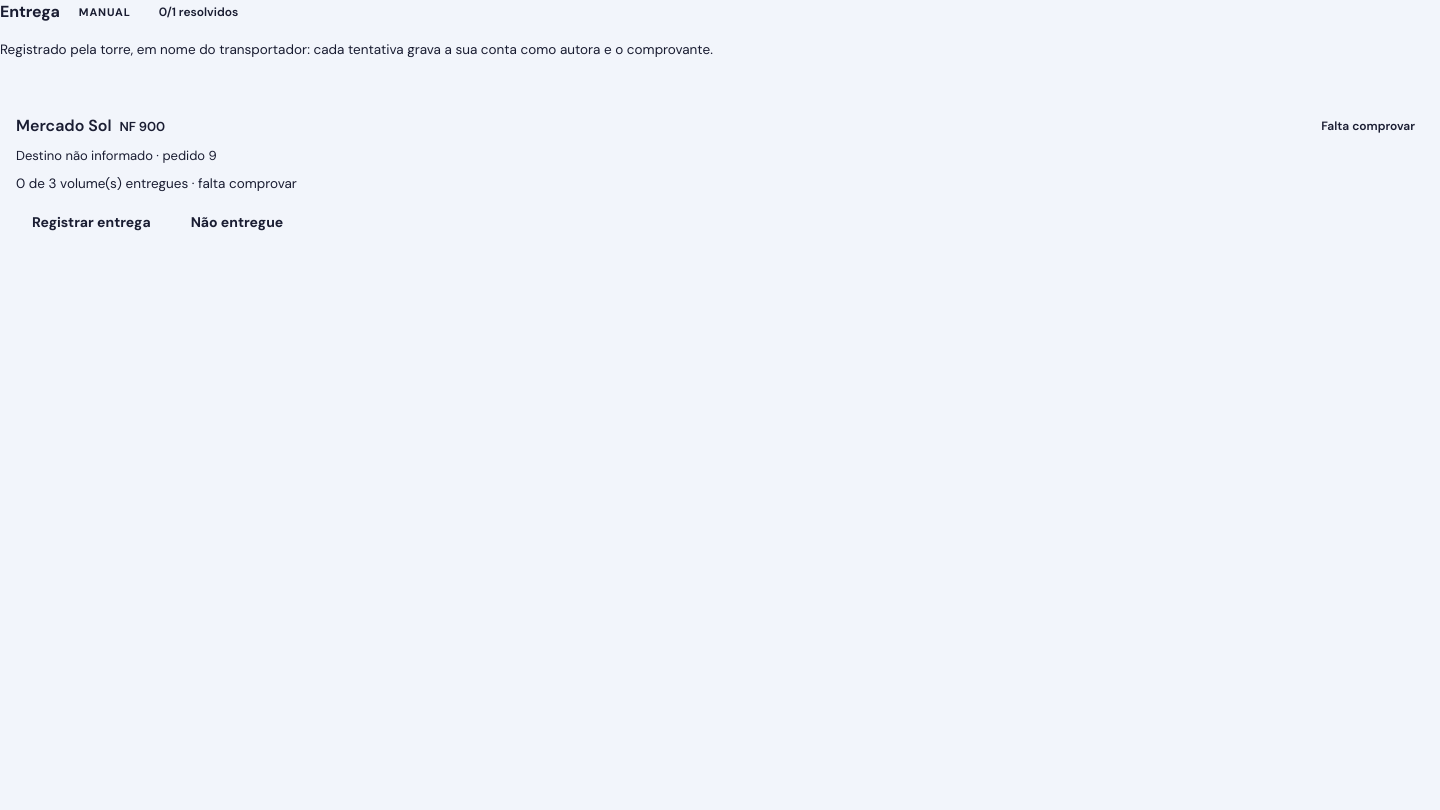
doca da viagem na Gestão V2 › registra a entrega com comprovante e chave de idempotência, e a não entrega
Later steps or results of the test are not shown.
Click the button with aria-label "Registrar entrega do pedido 9" at (91, 222), box x1=16 y1=202 x2=167 y2=242
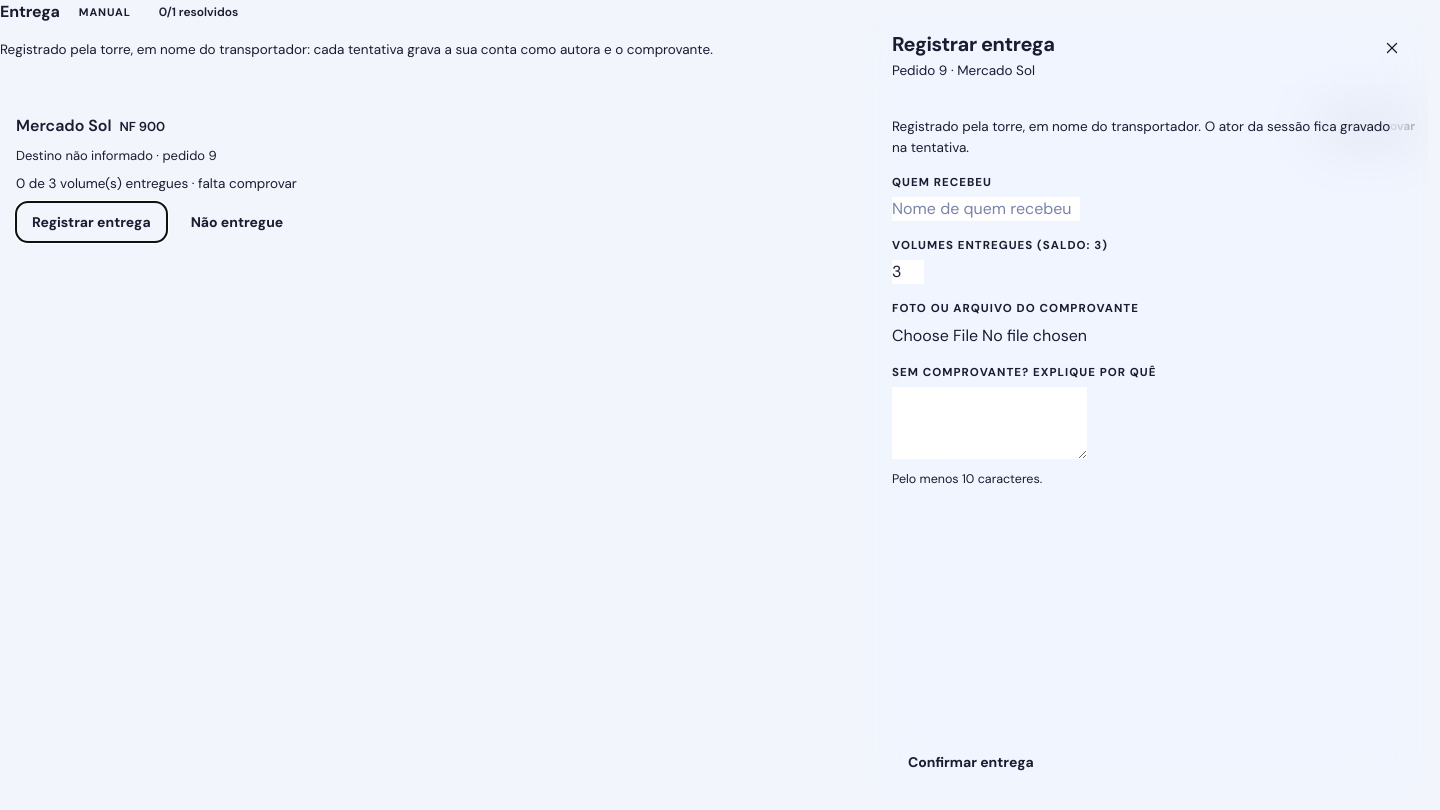
Click the button "Confirmar entrega" at (971, 762), box x1=892 y1=742 x2=1050 y2=782
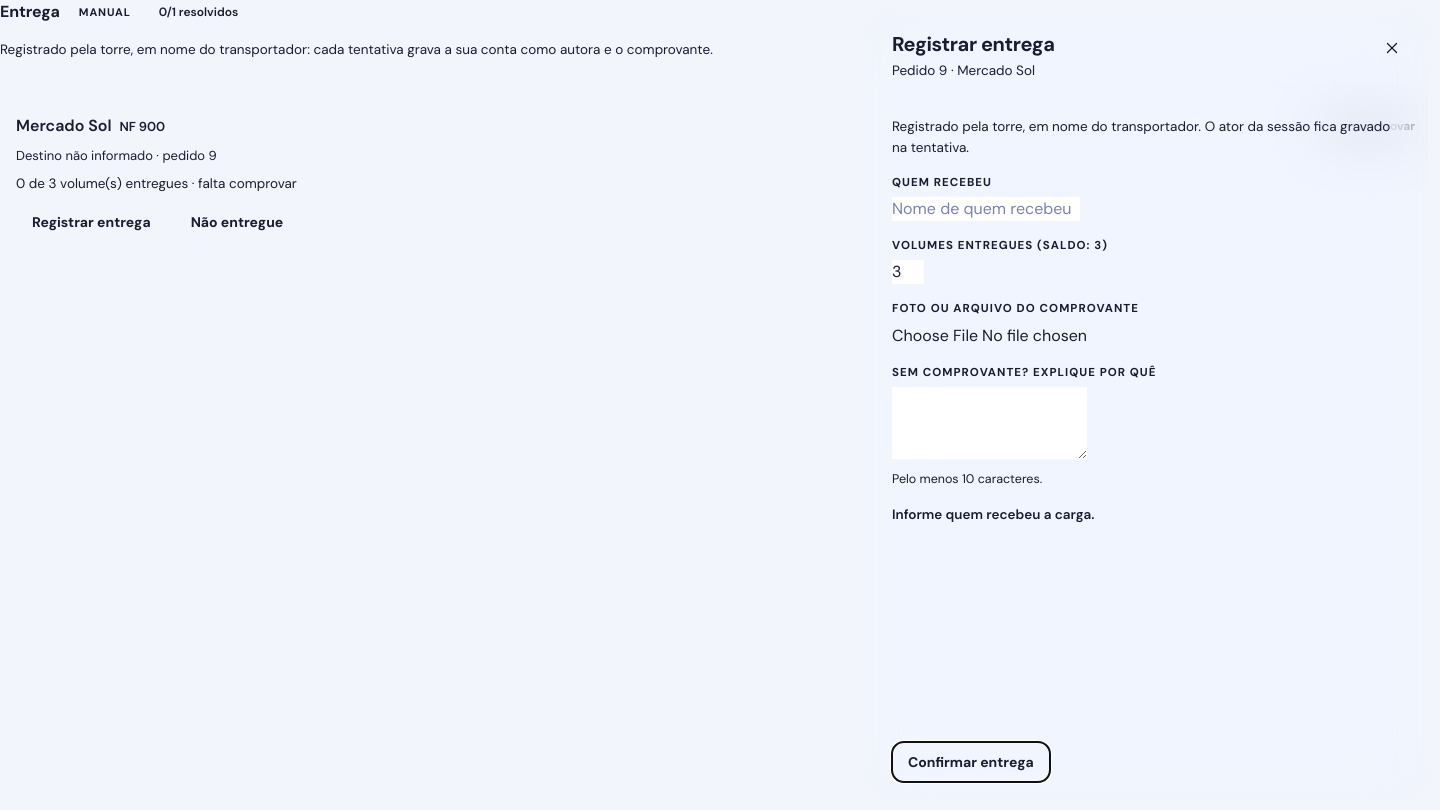
Check: the text "Informe quem recebeu a carga." is shown, box x1=892 y1=506 x2=1094 y2=522
